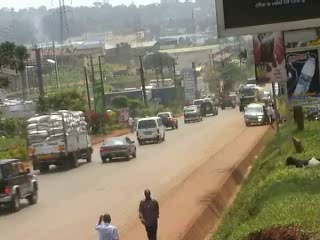Car: (0, 156, 41, 214), (98, 134, 138, 164), (154, 108, 180, 132), (180, 103, 204, 125), (196, 99, 218, 116)
